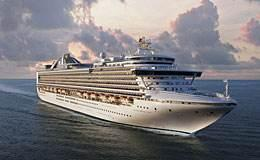youlun: (36, 34, 238, 133)
